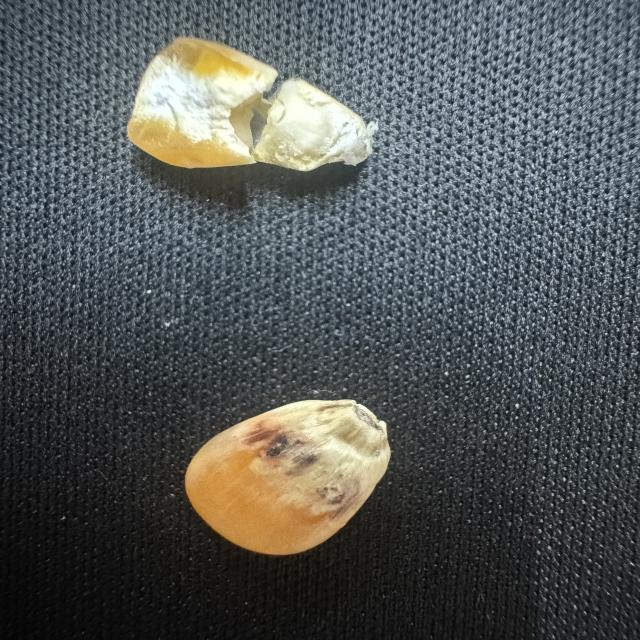Bad-Seed: (123, 33, 383, 174), (179, 394, 398, 560)
